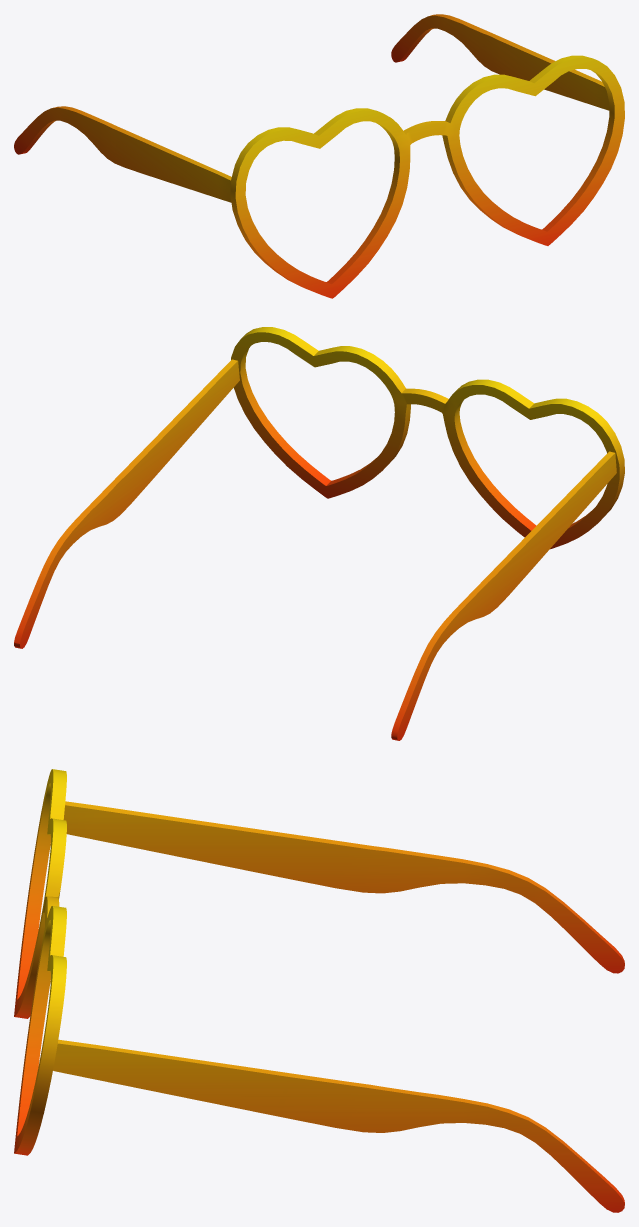
File: glasses.glb
3 renders of one model, top to bottom at view 1: azimuth 30°, elevation 25°; view 2: azimuth 150°, elevation 25°; view 3: azimuth 270°, elevation 25°, orthographic. The views are drawn at different scales.
Parts seen in each view (by area): view 1: glasses; view 2: glasses; view 3: glasses.
Part boxes in pixels (x1,y1,x2,y2): glasses: (14, 14, 624, 298); glasses: (14, 327, 624, 740); glasses: (14, 769, 624, 1212).
Size of the model in its own units: 0.7793 by 0.3274 by 0.8151.
Materials: 1 (1 with a texture image).
